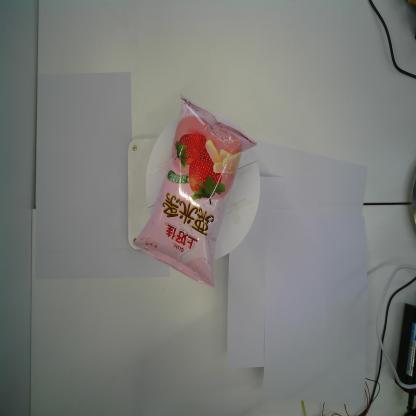Puffed Food: (134, 94, 258, 292)
